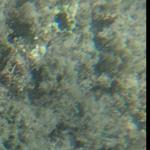dead: (7, 4, 143, 145)
